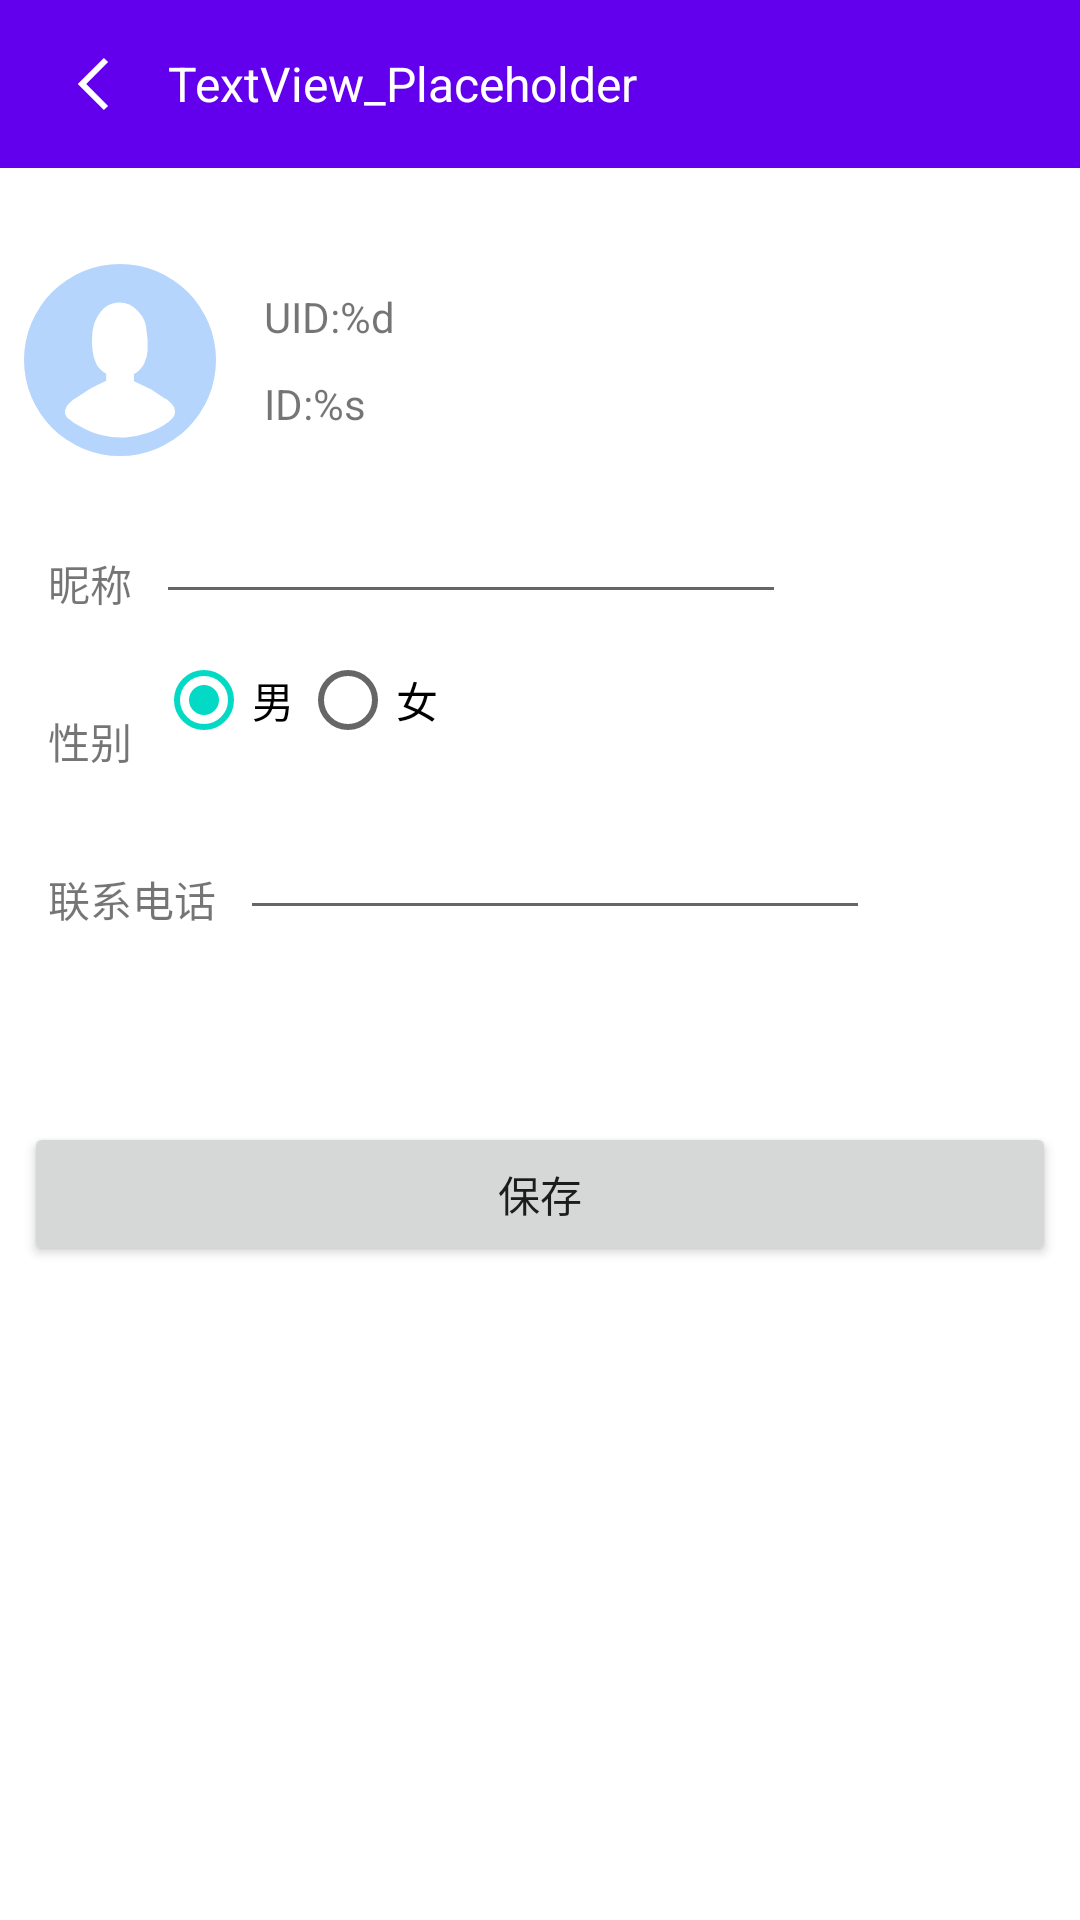

Screen size 1080 x 1920. Icon name, then its center in pixels as (x=x, y=y):
arrow left: (x=93, y=84)
user avatars: (x=120, y=360)
